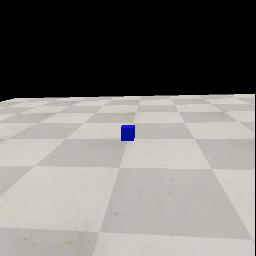box: (121, 125, 135, 141)
